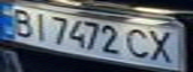2: (100, 22, 124, 56)
4: (66, 18, 87, 50)
7: (45, 13, 69, 46), (81, 20, 103, 52)
B: (3, 7, 39, 38)
C: (124, 25, 154, 61)
I: (27, 10, 51, 42)
X: (142, 27, 181, 65)
